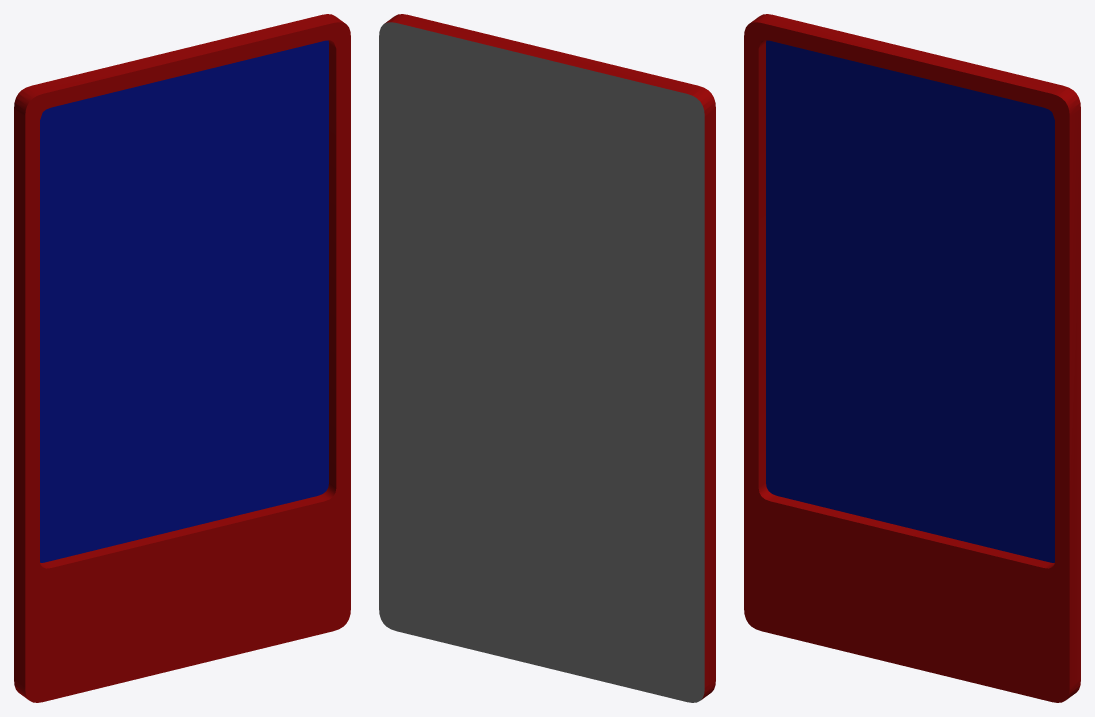
The model's file is SM_CarteTestV2.fbx.
The picture shows the model from 3 angles, left to right: view 1: azimuth 30°, elevation 25°; view 2: azimuth 150°, elevation 25°; view 3: azimuth 330°, elevation 25°; orthographic projection.
Visible parts, largest first — view 1: Box001; view 2: Box001; view 3: Box001.
Part boxes in pixels (x1,y1,x2,y2): Box001: [14, 14, 350, 702]; Box001: [379, 14, 715, 702]; Box001: [744, 14, 1080, 702].
Size of the model in its own units: 65.31 by 117 by 3.89.
